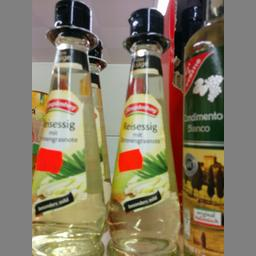vinegar: (107, 8, 184, 255), (32, 0, 106, 255)
